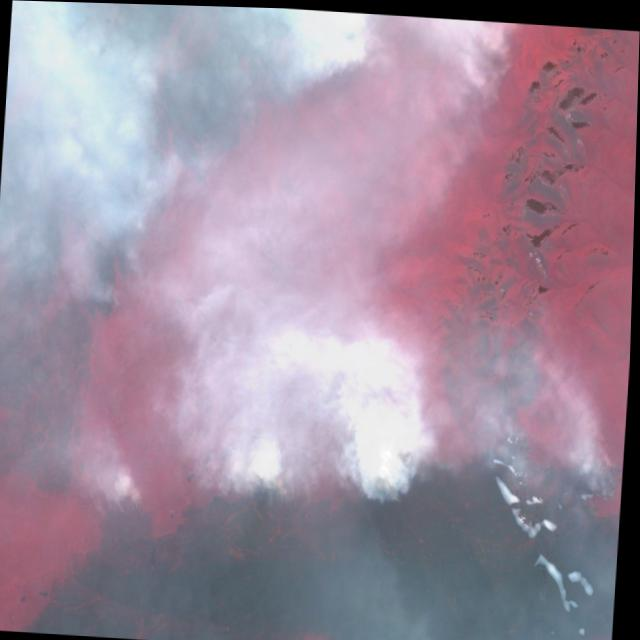fire: (579, 437, 627, 511), (90, 469, 161, 517)
